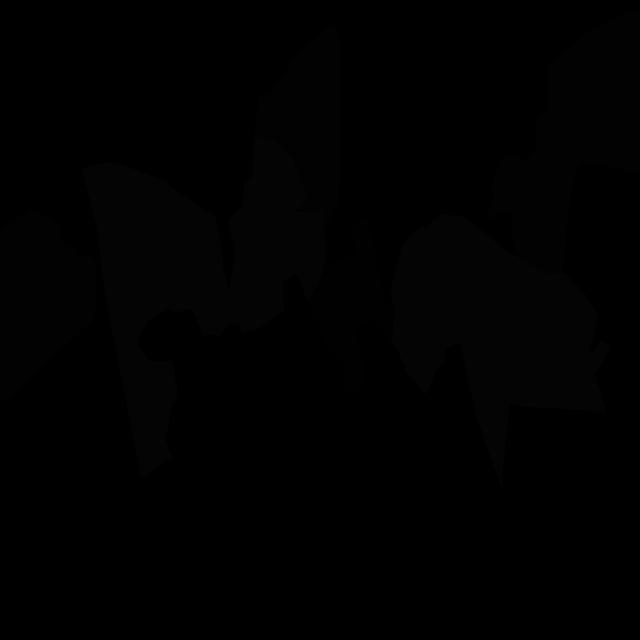cardboard: (486, 9, 640, 273), (0, 208, 97, 405), (254, 22, 341, 231)
rigid_plastic: (308, 218, 393, 396)
soft_plastic: (391, 214, 612, 489), (81, 162, 238, 477), (228, 136, 328, 332)
